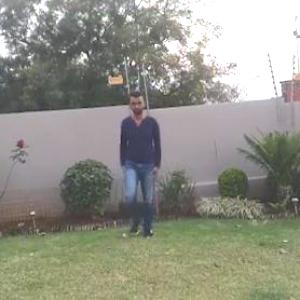follow: (112, 87, 163, 245)
